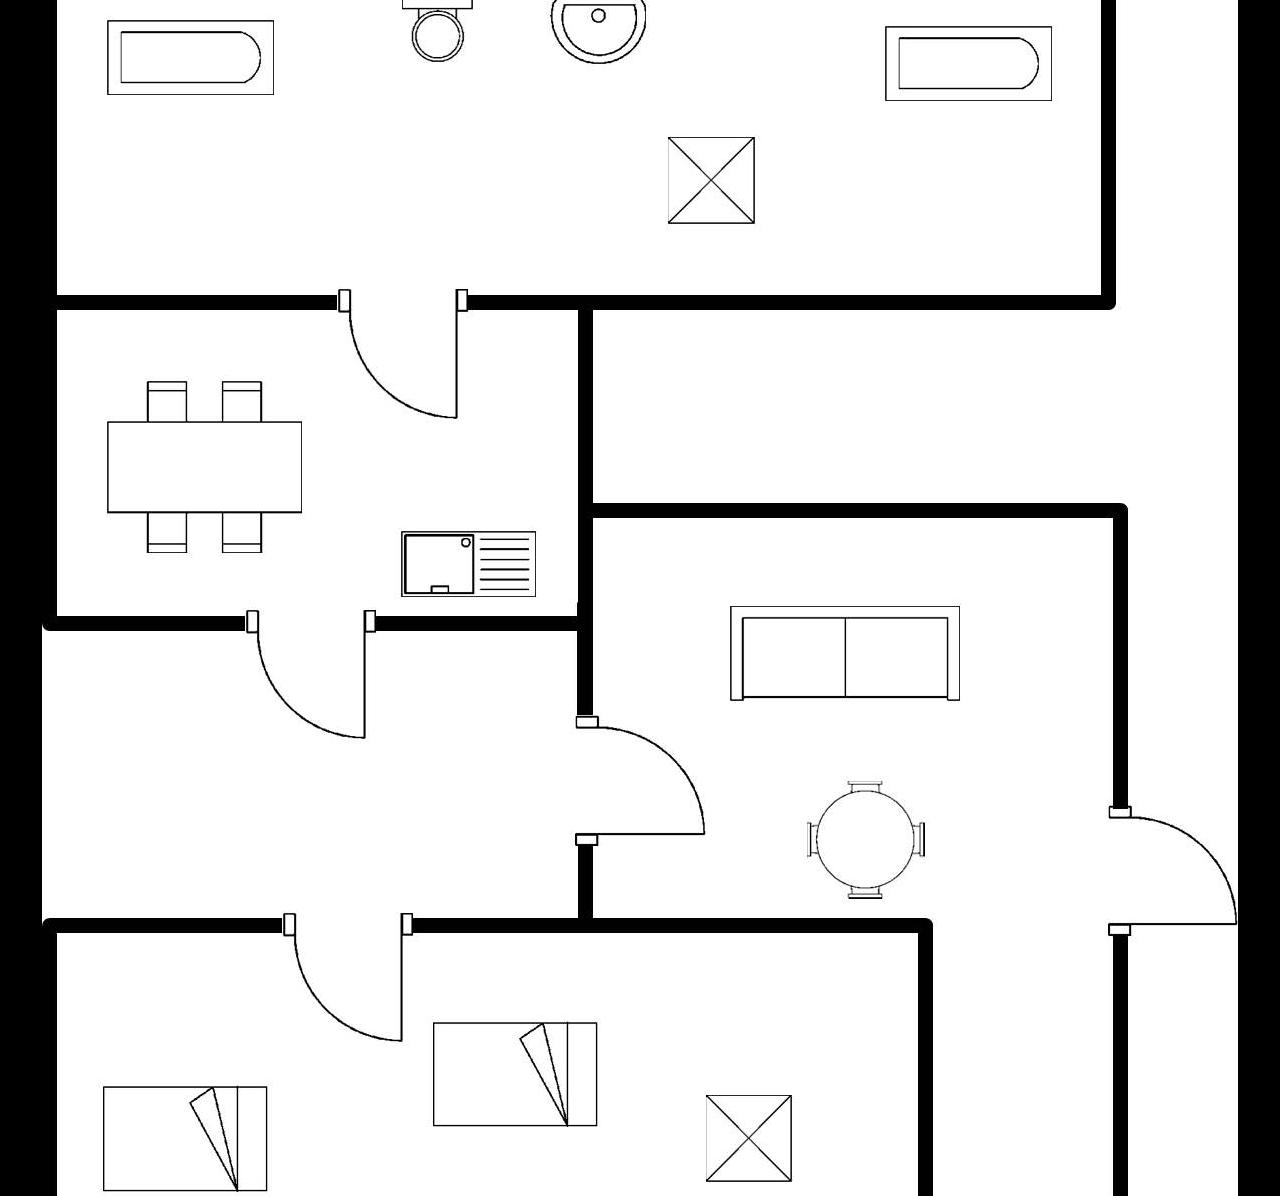bed: (424, 1009, 609, 1138), (91, 1073, 278, 1196)
dining_table: (98, 369, 311, 560)
round_table: (798, 765, 932, 903)
sink: (389, 518, 546, 604)
sofa: (720, 595, 972, 712)
toilet: (394, 0, 483, 69)
tub: (877, 15, 1062, 108), (100, 11, 283, 98)
